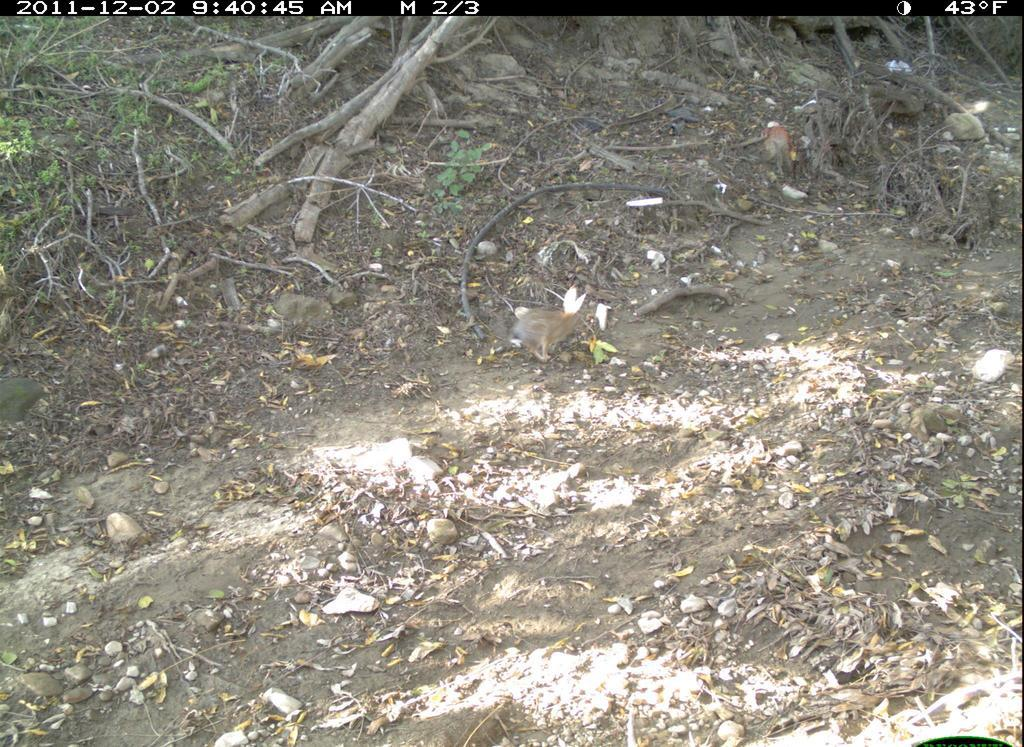rabbit: (500, 276, 598, 376)
